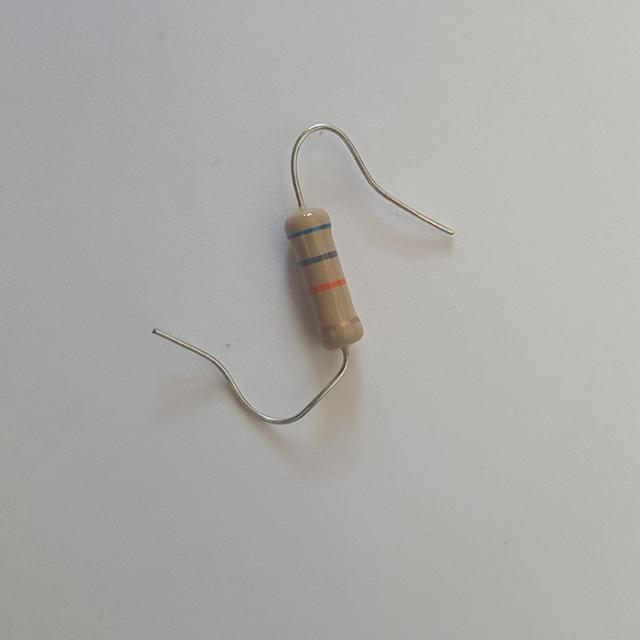blue: (287, 222, 330, 238)
gold: (320, 316, 357, 329)
grey: (300, 251, 337, 265)
orange: (309, 280, 345, 292)
resistor: (277, 189, 379, 361)
